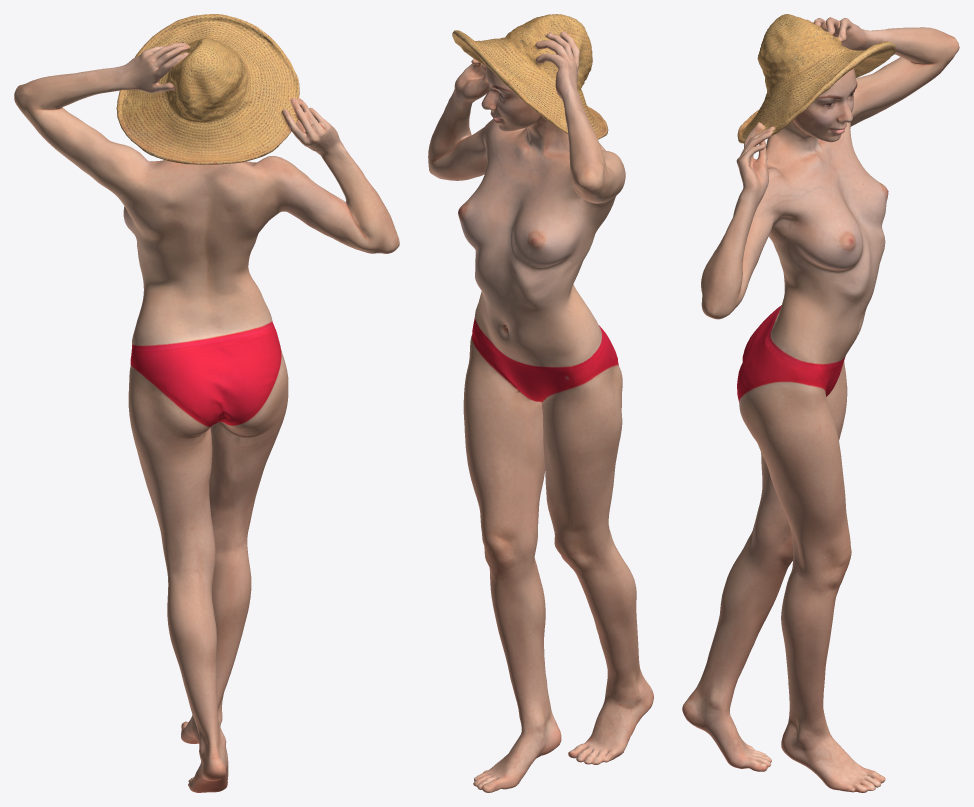
Rendered from naked_woman_standing.glb.
3 views of the same model, side by side, from view 1: azimuth 30°, elevation 25°; view 2: azimuth 150°, elevation 25°; view 3: azimuth 270°, elevation 25° (orthographic). The views are drawn at different scales.
Parts seen in each view (by area): view 1: Nake_Sum_Wom_RtStand_875; view 2: Nake_Sum_Wom_RtStand_875; view 3: Nake_Sum_Wom_RtStand_875.
Boxes of the visible parts, x1,y1,x2,y2 form: Nake_Sum_Wom_RtStand_875: (14, 14, 399, 792); Nake_Sum_Wom_RtStand_875: (428, 14, 653, 792); Nake_Sum_Wom_RtStand_875: (682, 14, 959, 792).
Size of the model in its own units: 0.6416 by 1.63 by 0.5424.
1 material, 1 textured.
